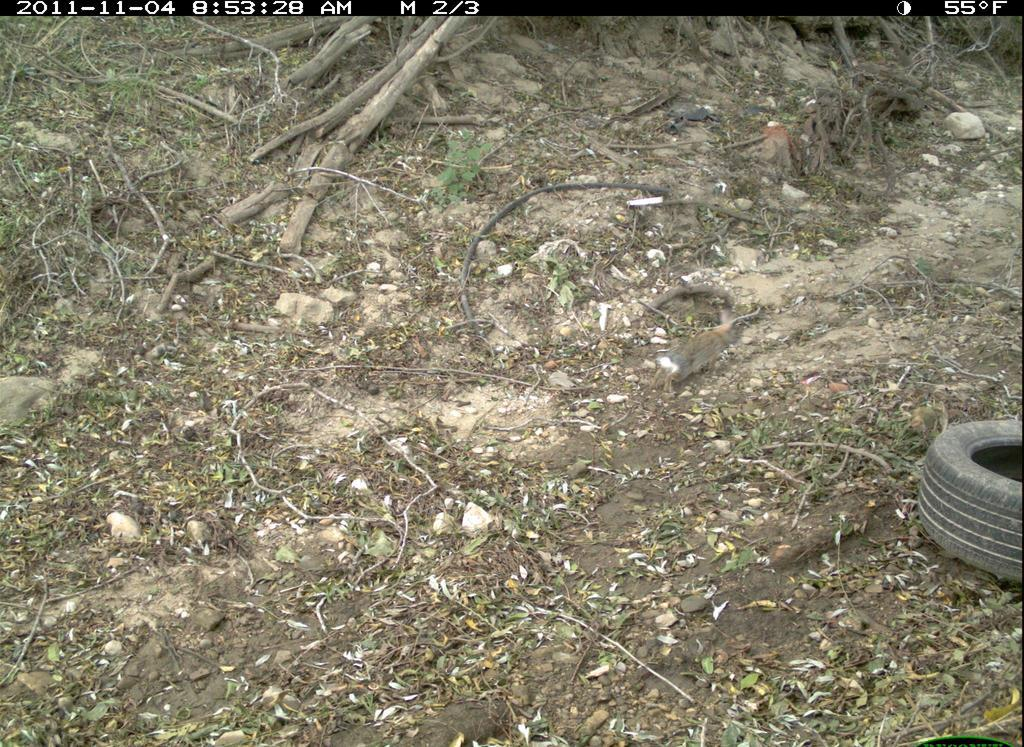rabbit: (648, 308, 746, 399)
